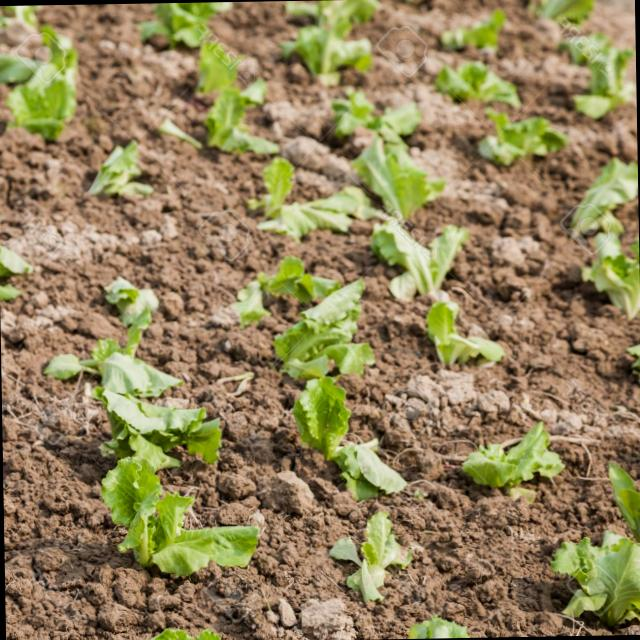verde: (102, 457, 258, 576), (292, 376, 406, 500), (274, 279, 374, 379), (371, 218, 468, 299), (462, 421, 564, 497), (426, 301, 504, 366)
